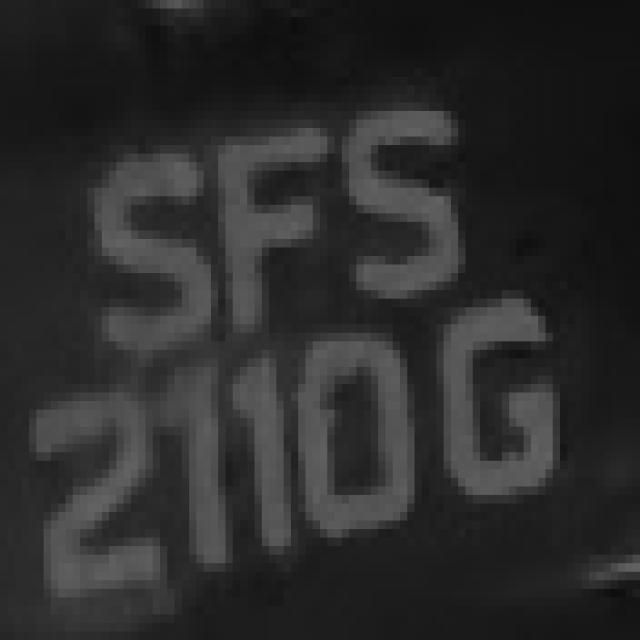0: (298, 324, 415, 563)
1: (160, 341, 233, 589), (233, 341, 298, 589)
2: (15, 376, 160, 632)
F: (196, 119, 334, 316)
G: (407, 264, 575, 520)
S: (80, 137, 225, 376), (320, 85, 473, 308)
